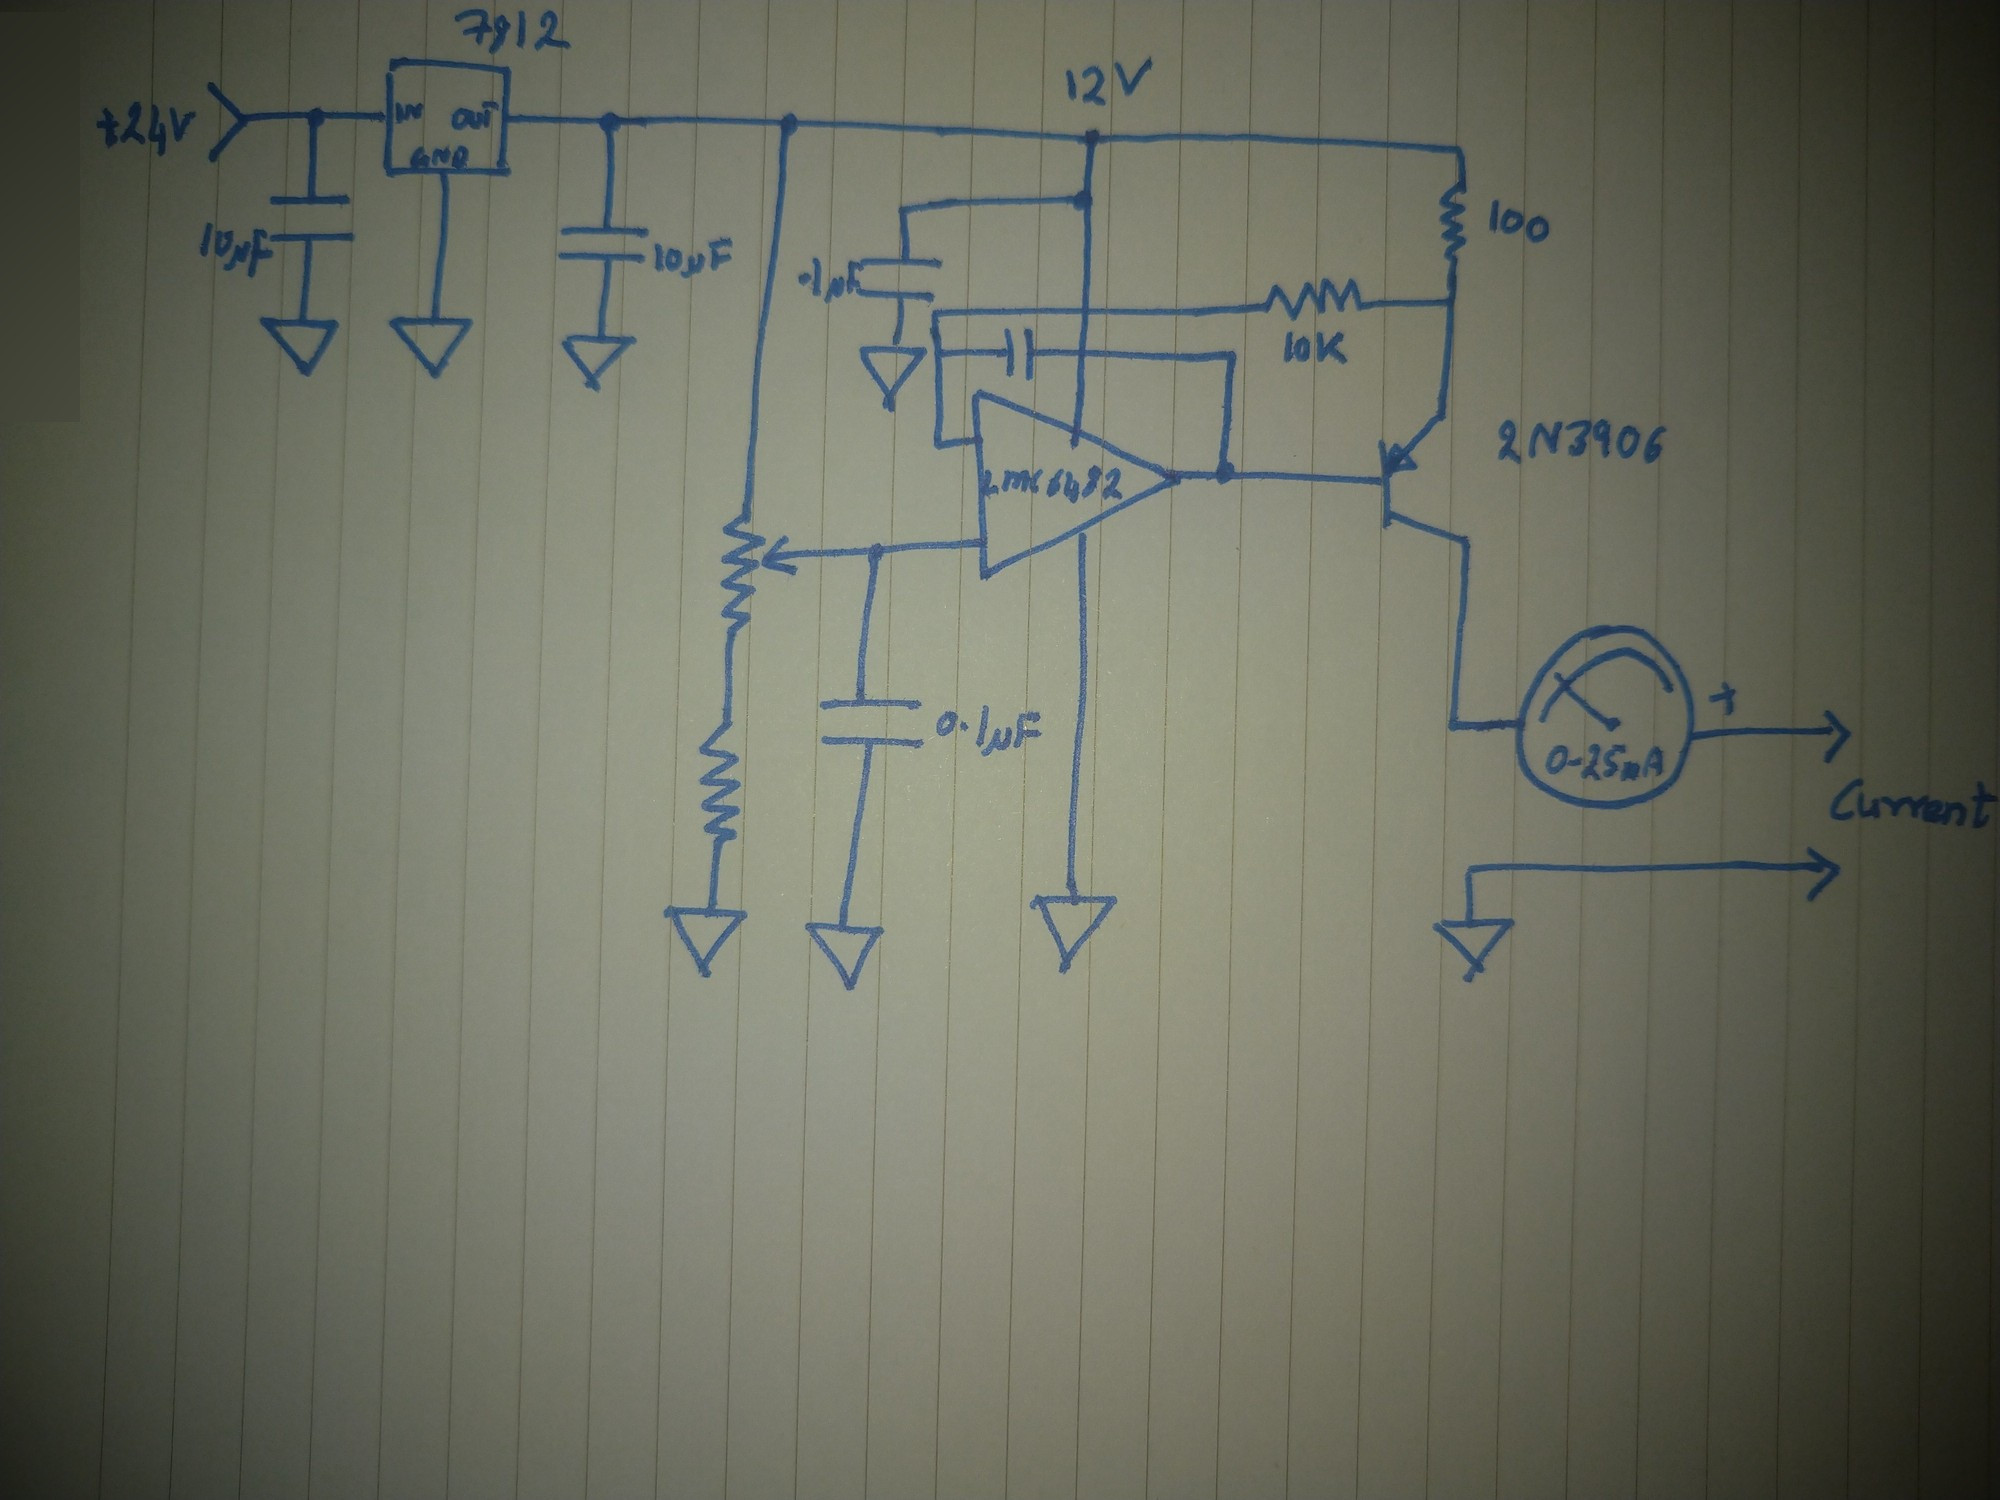capacitor.unpolarized: (817, 695, 929, 755), (265, 184, 361, 247), (556, 221, 654, 271), (857, 252, 943, 306), (998, 325, 1043, 381)
crossover: (1069, 342, 1096, 362), (1074, 299, 1096, 321)
gnd: (1028, 890, 1121, 978), (661, 901, 753, 985), (802, 919, 890, 994), (386, 312, 479, 381), (1430, 915, 1521, 985), (255, 310, 342, 380), (857, 339, 929, 416), (559, 331, 641, 394)
junction: (594, 102, 631, 139), (1068, 181, 1102, 221), (773, 107, 806, 143), (1211, 454, 1239, 492), (1076, 124, 1109, 153), (861, 540, 890, 570), (299, 102, 329, 131), (1219, 345, 1244, 370), (1447, 137, 1474, 161), (929, 433, 953, 459), (891, 199, 915, 221), (1439, 290, 1461, 314), (1443, 715, 1466, 736), (1458, 860, 1482, 879), (929, 345, 950, 362), (924, 307, 948, 321)
operational_amplifier: (967, 386, 1186, 581)
probe.current: (1510, 622, 1701, 813)
resistor: (693, 717, 745, 849), (1260, 274, 1367, 323), (1436, 176, 1469, 268)
resistor.adjustable: (715, 512, 798, 637)
terminal: (200, 79, 249, 165), (1803, 841, 1846, 904), (1820, 706, 1855, 767)
text: (1493, 416, 1669, 473), (1827, 777, 2000, 834), (932, 700, 1046, 759), (91, 99, 198, 161), (1537, 737, 1669, 785), (454, 6, 573, 58), (983, 463, 1128, 506), (192, 219, 277, 285), (1061, 55, 1157, 109), (652, 236, 742, 280), (1483, 195, 1553, 246), (792, 257, 863, 306), (1279, 328, 1351, 369), (447, 99, 501, 131), (409, 143, 471, 169), (394, 98, 427, 124)
transistor: (1373, 411, 1480, 553)
voltage.dc_regulator: (378, 54, 517, 181)
